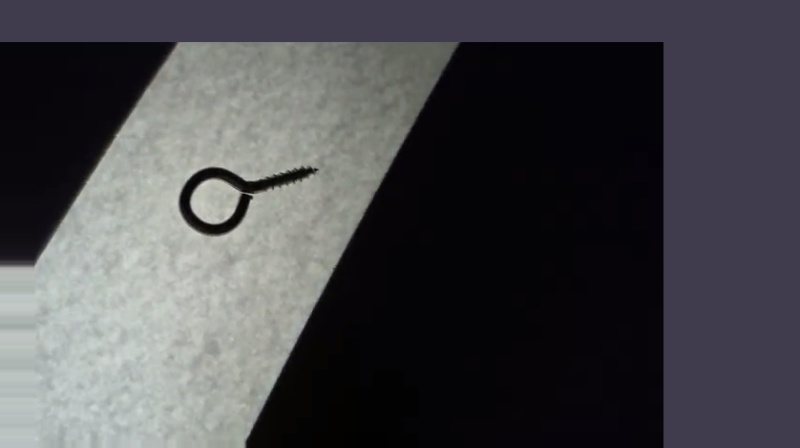O001: (176, 163, 322, 235)
